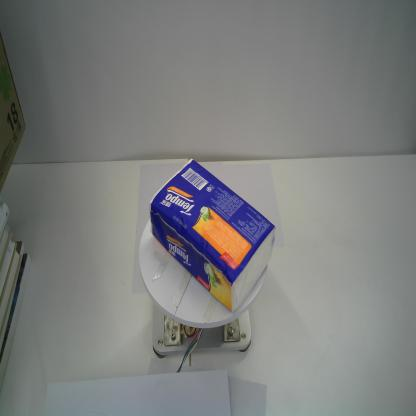Tissue: (148, 157, 277, 314)
